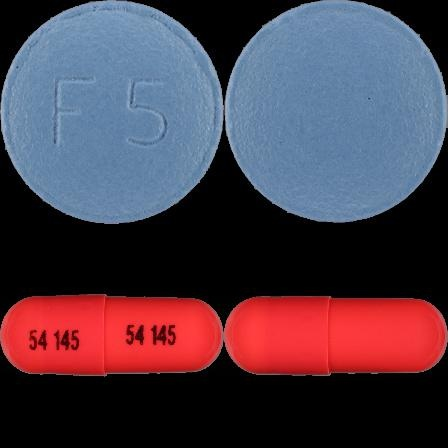17856-0090: (0, 0, 224, 224)
